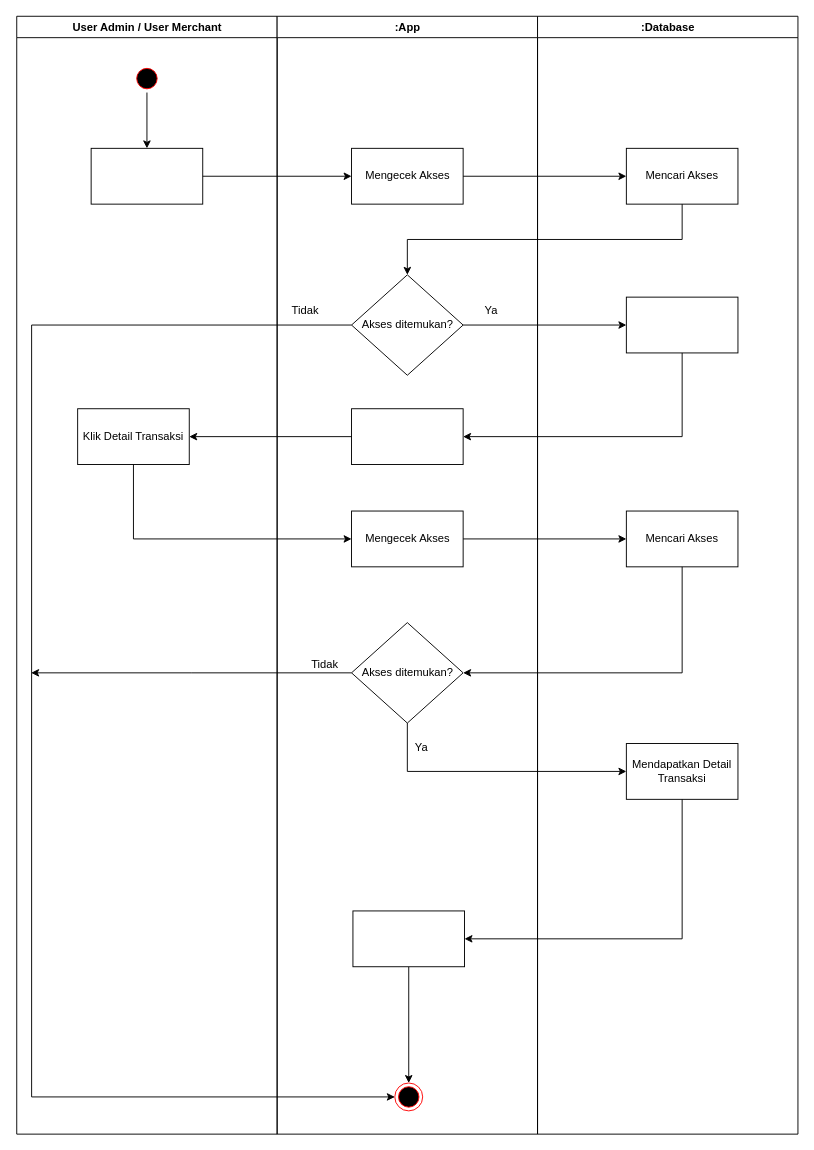
This 814x1150 diagram has some shape labels left out. Here are the shapes that lost their labels. From the top down, the centre of each, then its label:
the point at 146,175: Membuka Transactions
the point at 681,324: Mendapatkan List Transaksi
the point at 407,436: Menampilkan List Transaksi
the point at 408,938: Menampilkan Detail Transaksi
